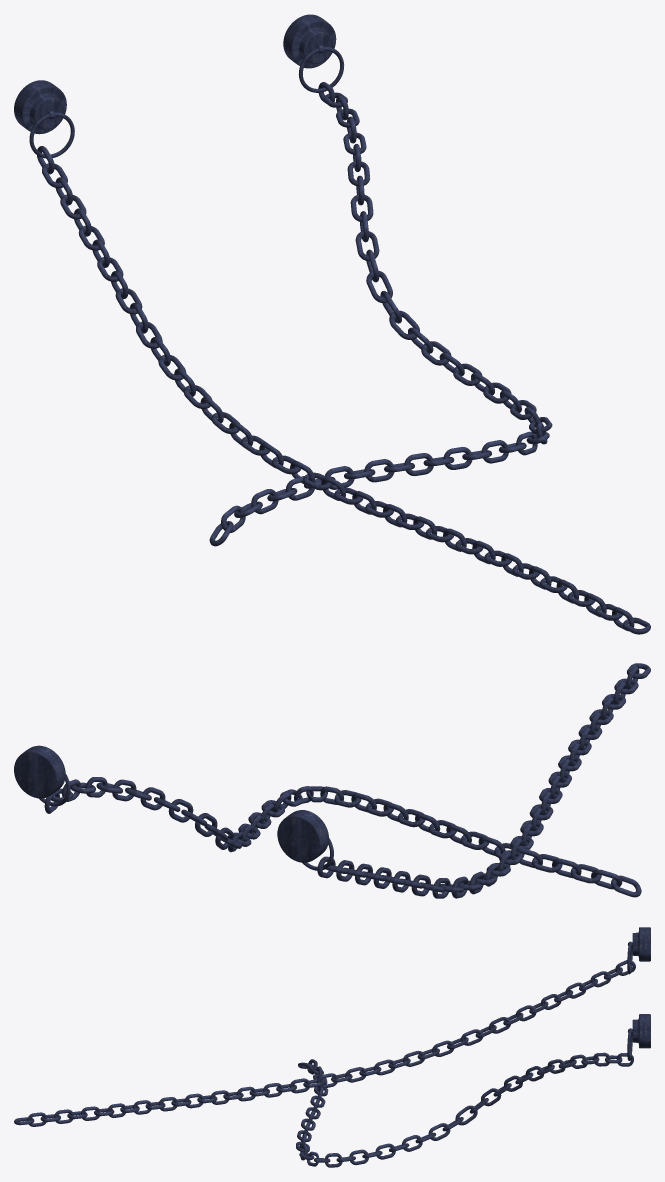
Rendered from Cadenas_Cama.fbx.
3 renders of one model, top to bottom at view 1: azimuth 30°, elevation 25°; view 2: azimuth 150°, elevation 25°; view 3: azimuth 270°, elevation 25°, orthographic. The views are drawn at different scales.
Parts seen in each view (by area): view 1: Torus.002, Torus.001, Cylinder.003, Cylinder.004; view 2: Torus.001, Torus.002, Cylinder.003, Cylinder.004; view 3: Torus.002, Torus.001, Cylinder.003, Cylinder.004.
Boxes of the visible parts, x1,y1,x2,y2 form: Torus.002: [37, 146, 650, 634]; Torus.001: [209, 82, 552, 546]; Cylinder.003: [283, 14, 336, 68]; Cylinder.004: [14, 80, 66, 134]; Torus.001: [44, 777, 641, 897]; Torus.002: [317, 663, 650, 898]; Cylinder.003: [14, 745, 65, 798]; Cylinder.004: [277, 810, 328, 862]; Torus.002: [14, 960, 635, 1126]; Torus.001: [296, 1052, 633, 1167]; Cylinder.003: [632, 1014, 650, 1048]; Cylinder.004: [632, 927, 650, 961].
Size of the model in its own units: 726 by 464 by 1602.
